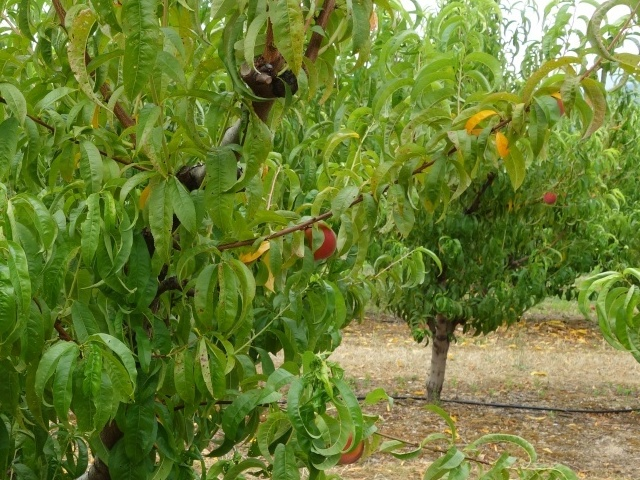peach: (300, 218, 339, 262), (340, 428, 368, 468)
